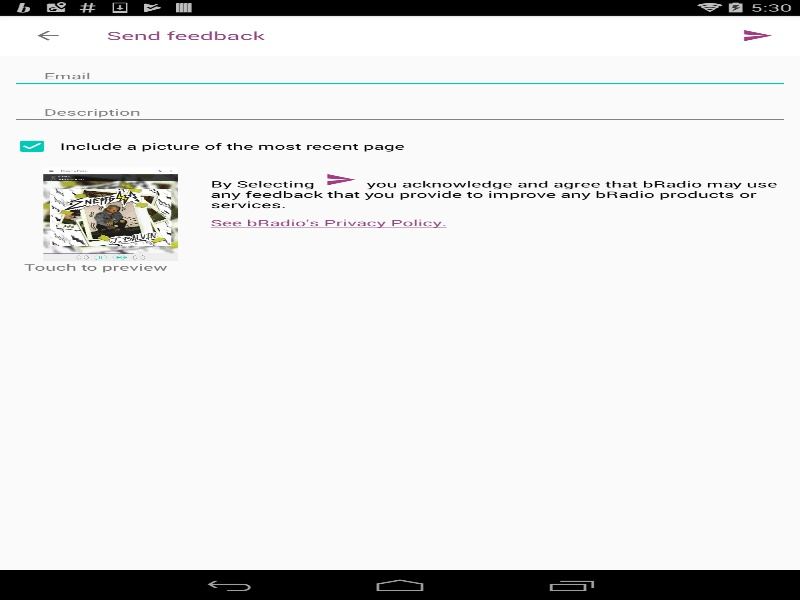Button: (10, 15, 85, 55)
Input: (10, 63, 789, 88), (10, 100, 789, 125)
